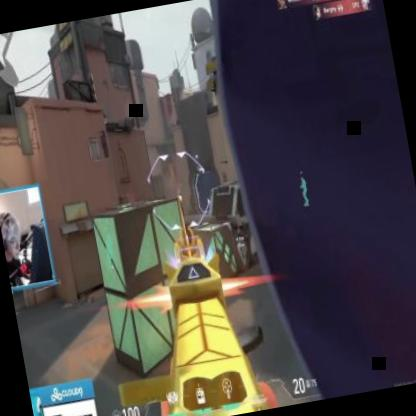enemy: (176, 196, 184, 216)
